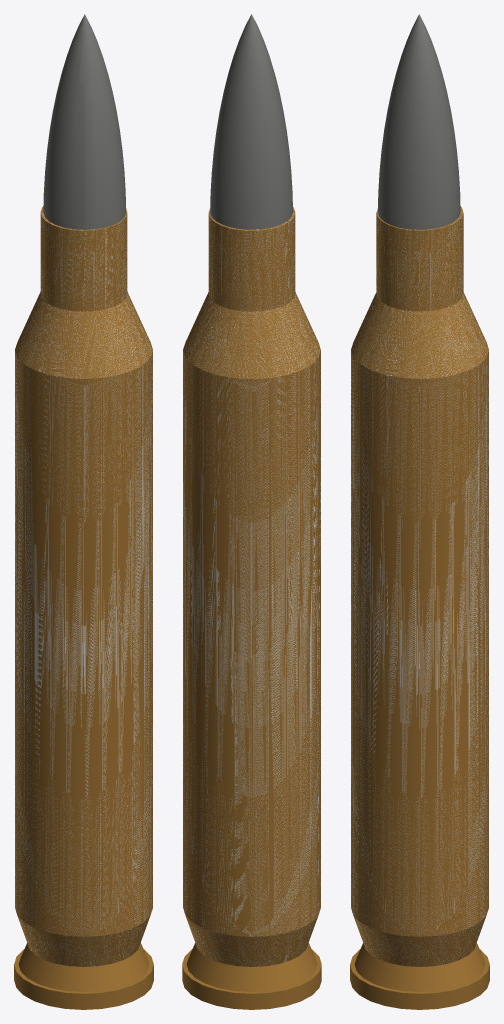
File: 223 cal bullet.dae
3 views of the same model, side by side, from view 1: azimuth 90°, elevation 25°; view 2: azimuth 210°, elevation 25°; view 3: azimuth 270°, elevation 25° (orthographic).
Parts seen in each view (by area): view 1: bround_with_case (×2), bullet, final_bullet; view 2: bround_with_case (×2), final_bullet, bullet; view 3: bround_with_case (×2), final_bullet, bullet.
Boxes of the visible parts, x1,y1,x2,y2 form: bround_with_case (×2): (14, 206, 153, 1009); bullet: (43, 14, 125, 229); final_bullet: (43, 19, 125, 229); bround_with_case (×2): (182, 207, 321, 1009); final_bullet: (210, 14, 282, 229); bullet: (240, 14, 292, 229); bround_with_case (×2): (350, 206, 489, 1009); final_bullet: (378, 14, 459, 229); bullet: (379, 17, 460, 221).
Bounding box in the file's own units: 0.322 × 0.3224 × 2.46.
